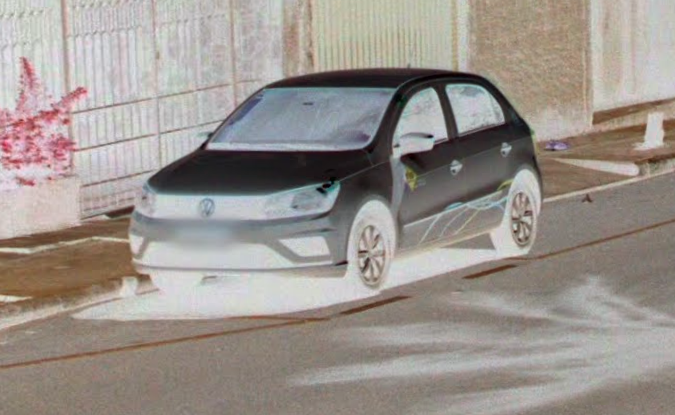car: (131, 67, 544, 302)
